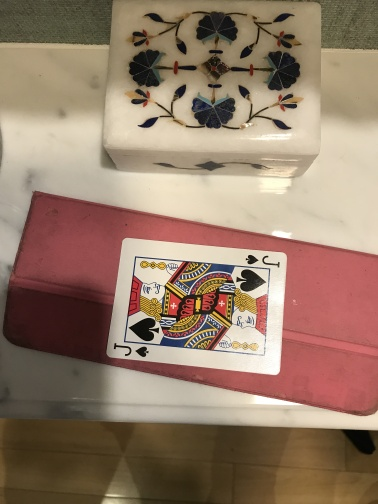jack: (106, 237, 289, 376)
